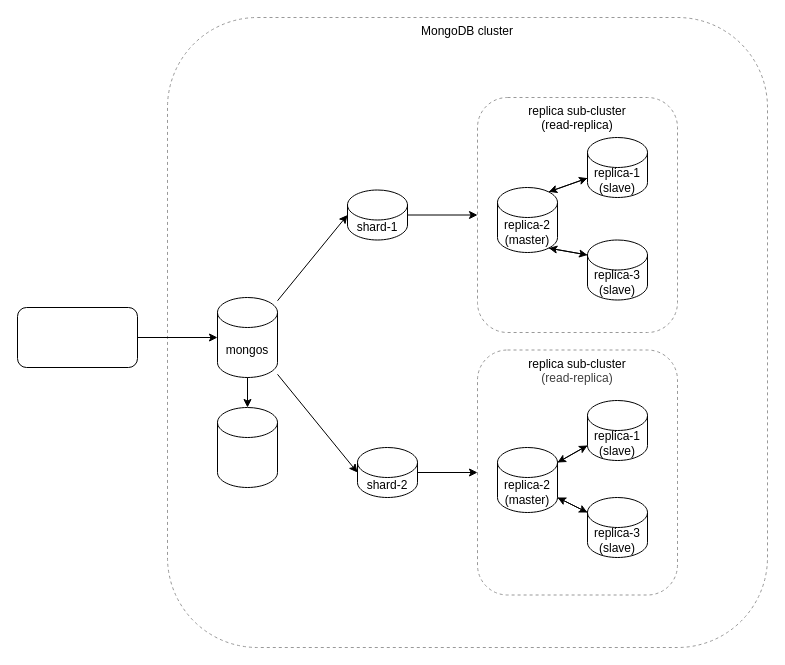
Image size: 785x665. Some labels were removed from this diagram. The box of each missing label's shape, as (x1, y1, x2, y2) in pixels:
configSrv: (216, 406, 278, 488)
pymongo-api: (16, 306, 138, 368)
